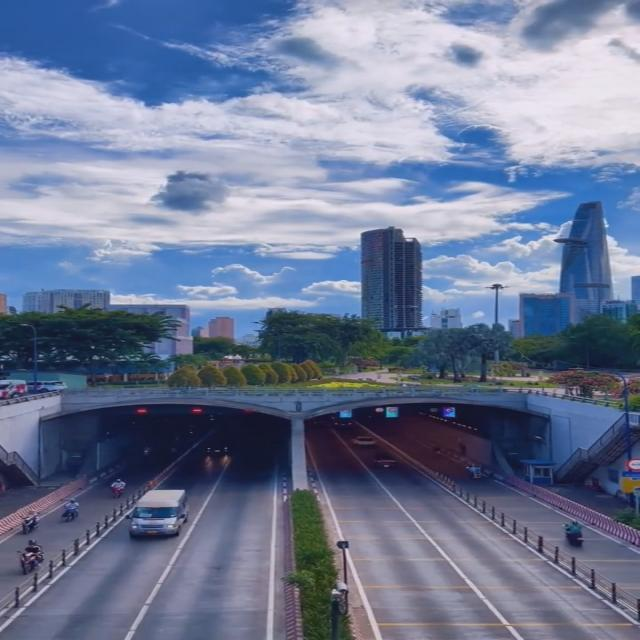bus: (130, 487, 189, 541)
motorbike: (559, 518, 588, 547), (22, 538, 43, 574), (20, 508, 44, 534), (62, 499, 81, 524), (108, 479, 127, 498)
